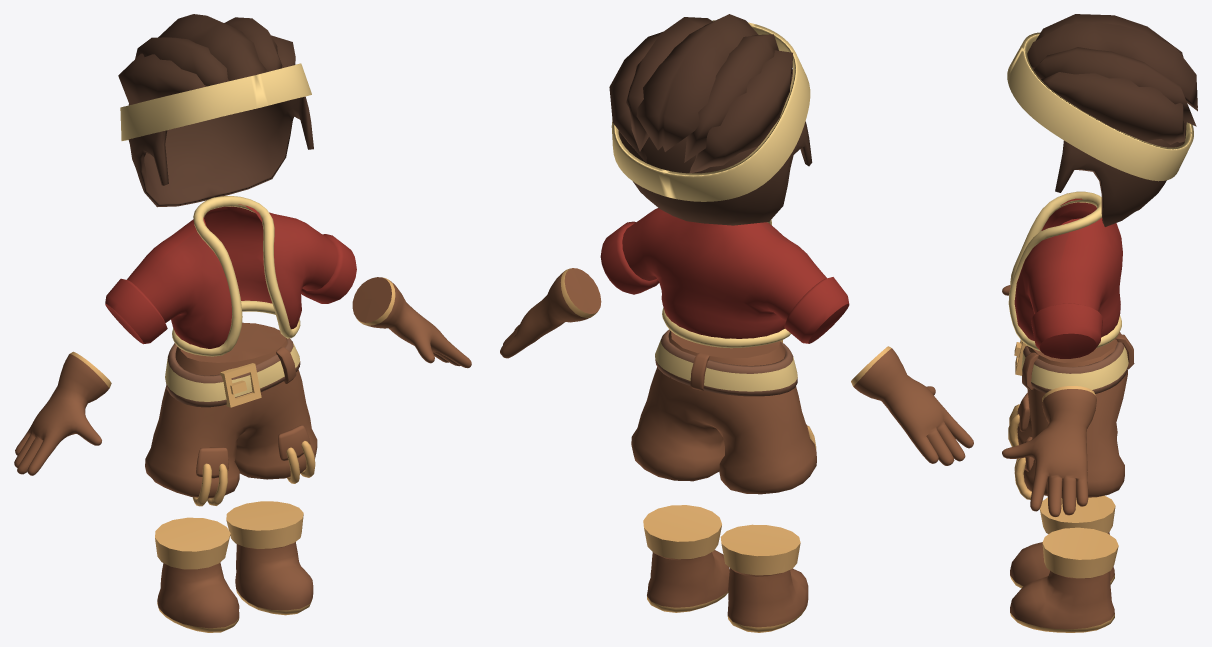
The model's file is def-zırhlar.fbx.
3 renders of one model, left to right at view 1: azimuth 30°, elevation 25°; view 2: azimuth 150°, elevation 25°; view 3: azimuth 270°, elevation 25°, orthographic. The views are drawn at different scales.
Parts seen in each view (by area): view 1: main ust, main kask, main cizme; view 2: main ust, main kask, main cizme; view 3: main ust, main kask, main cizme.
Boxes of the visible parts, bbox=[...] form: main ust: bbox=[14, 196, 471, 506]; main kask: bbox=[118, 14, 313, 207]; main cizme: bbox=[155, 501, 313, 632]; main ust: bbox=[500, 208, 973, 494]; main kask: bbox=[609, 14, 812, 225]; main cizme: bbox=[643, 505, 808, 632]; main ust: bbox=[1002, 191, 1134, 516]; main kask: bbox=[1007, 14, 1197, 226]; main cizme: bbox=[1010, 495, 1118, 632].
Bounding box in the file's own units: 401 × 495 × 152.
